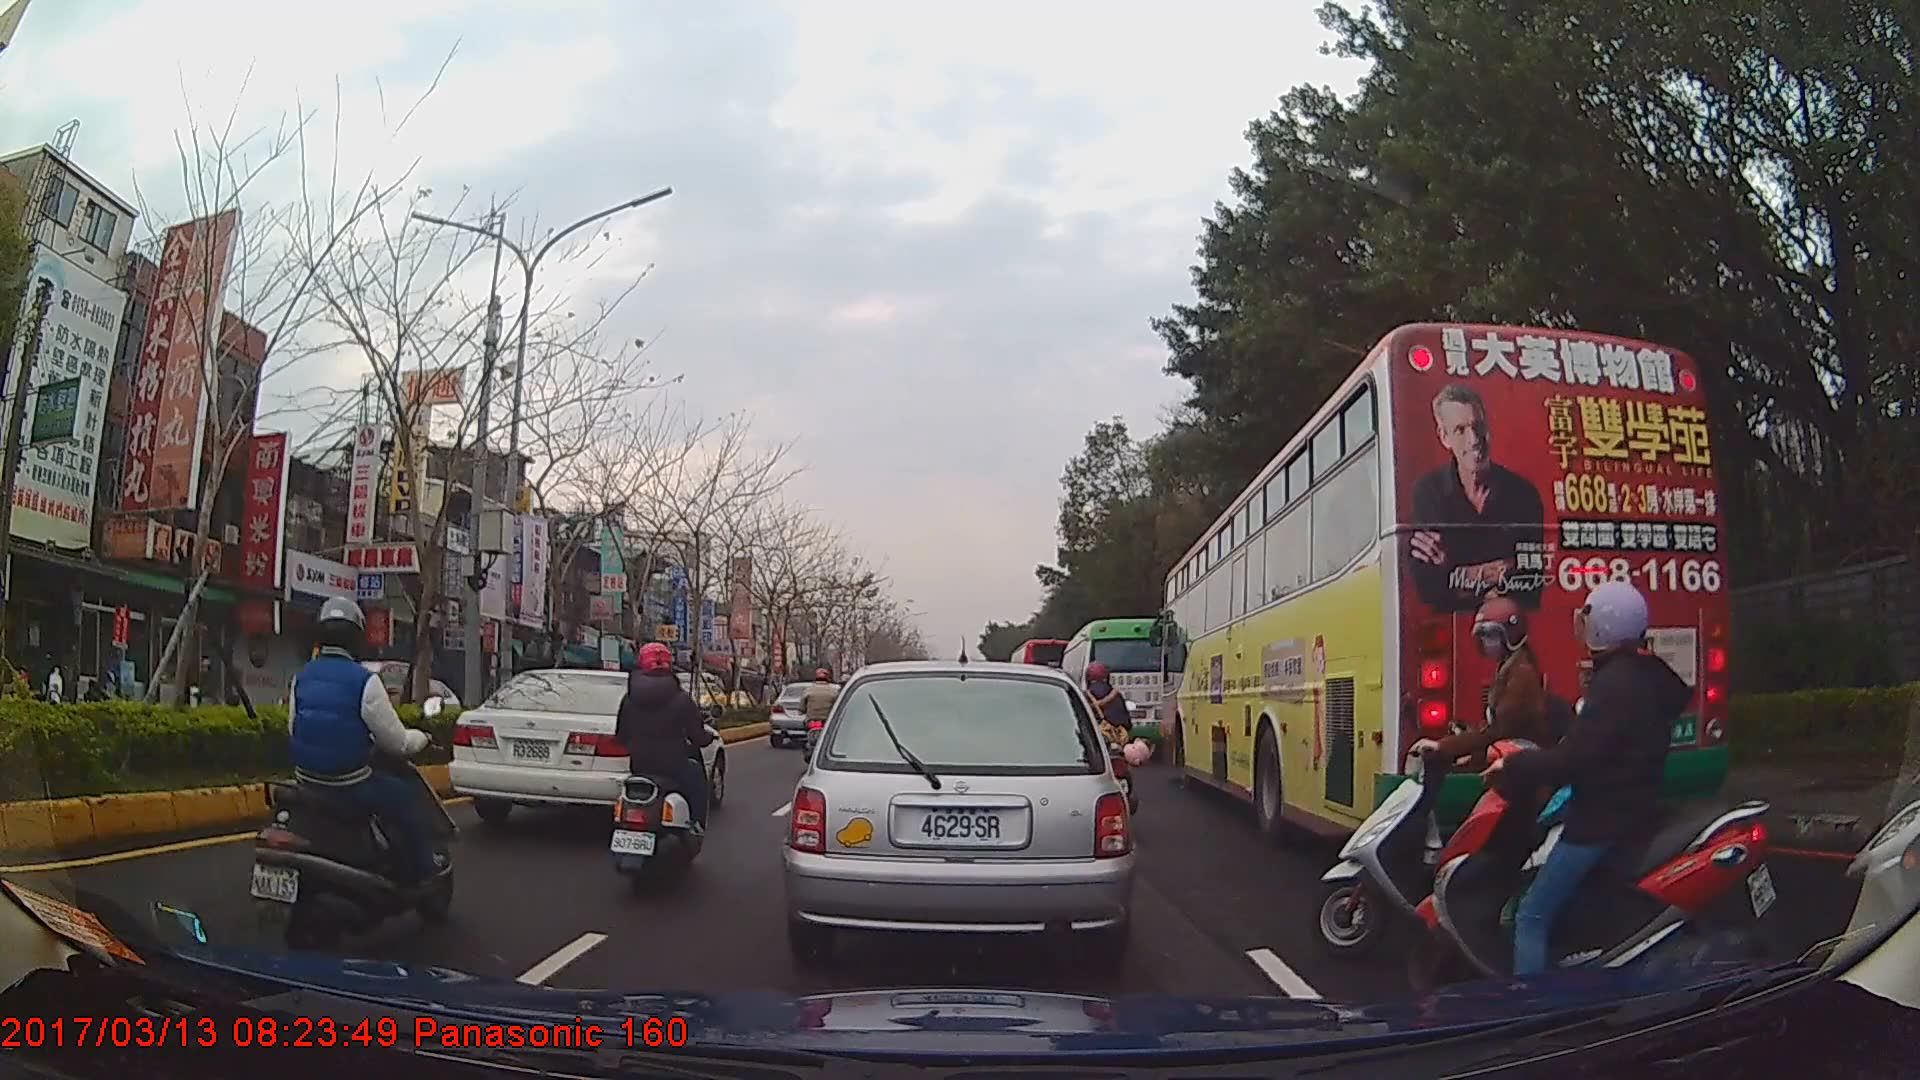rider: (1416, 579, 1795, 1042), (1313, 596, 1660, 973), (250, 583, 458, 959), (1847, 545, 1920, 977), (609, 639, 719, 888), (1066, 663, 1149, 799), (805, 667, 847, 760), (187, 659, 218, 706)
vehicle: (1161, 319, 1730, 850), (781, 660, 1136, 967), (443, 667, 726, 831), (1058, 616, 1187, 759), (274, 659, 427, 750), (663, 680, 725, 720)
